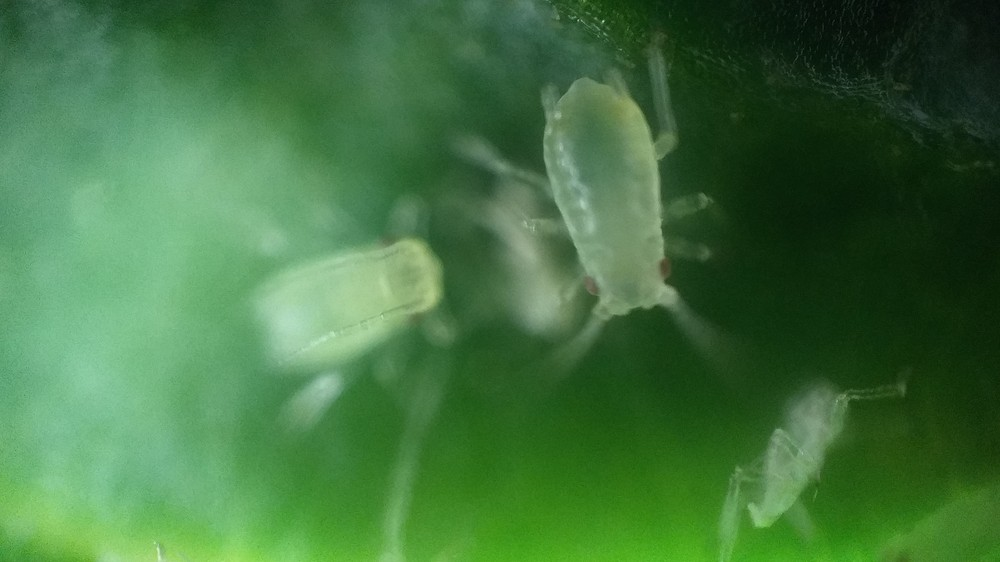Pulgon: (501, 42, 744, 374), (238, 188, 485, 379)
